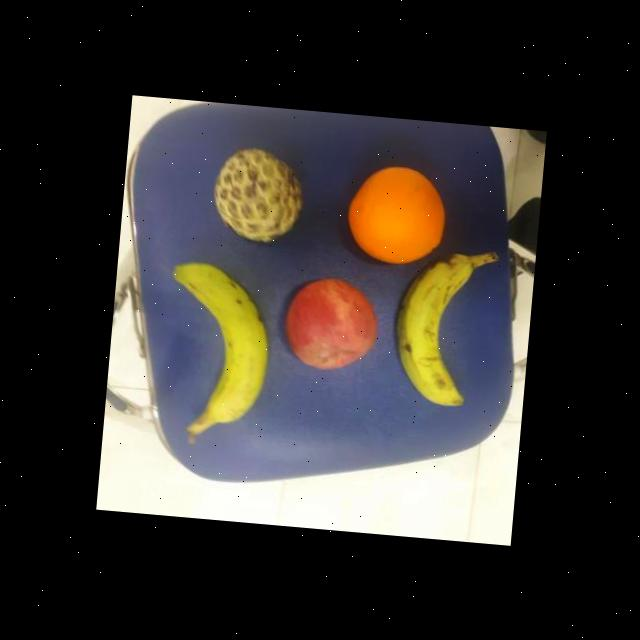Sakya fruit: (205, 143, 307, 248)
apple: (277, 272, 381, 374)
banana: (154, 258, 276, 438), (383, 245, 478, 409)
orange: (340, 161, 450, 271)
